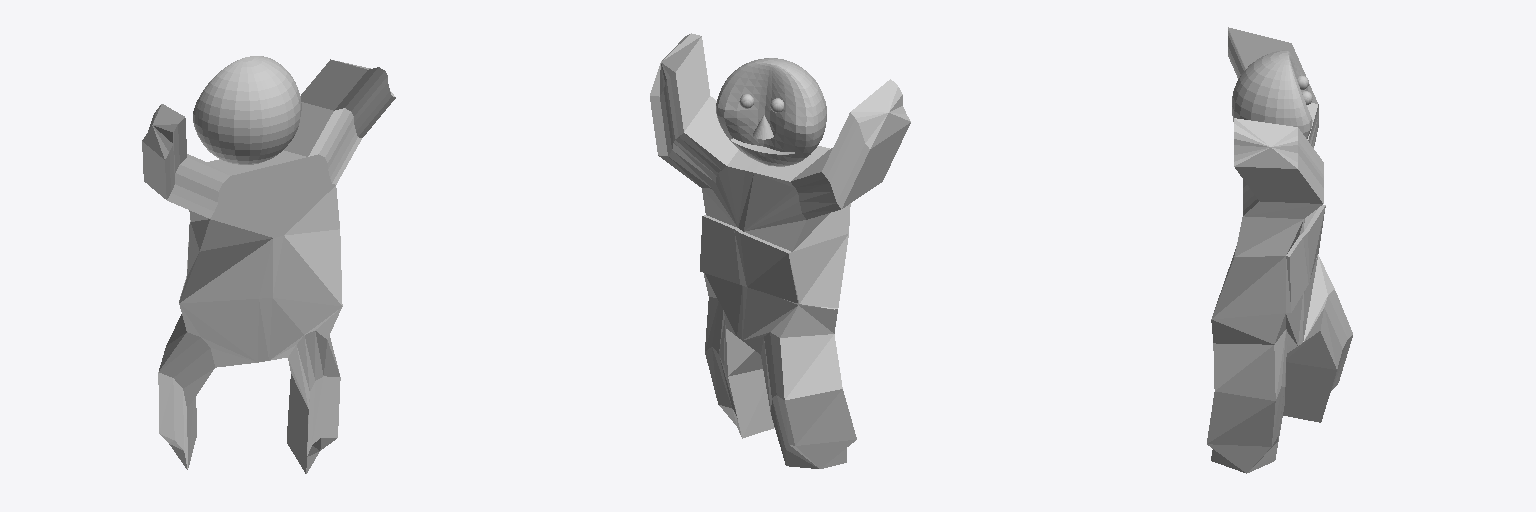
File: man_000033.obj
3 renders of one model, left to right at view 1: azimuth 30°, elevation 25°; view 2: azimuth 150°, elevation 25°; view 3: azimuth 270°, elevation 25°, orthographic.
Visible parts, largest first — view 1: Cube; view 2: Cube; view 3: Cube.
Part boxes in pixels (left/top/right/bottom): Cube: left=142, top=56, right=395, bottom=473; Cube: left=650, top=33, right=910, bottom=468; Cube: left=1207, top=27, right=1352, bottom=473.
Bounding box in the file's own units: 79.08 × 127 × 42.92.